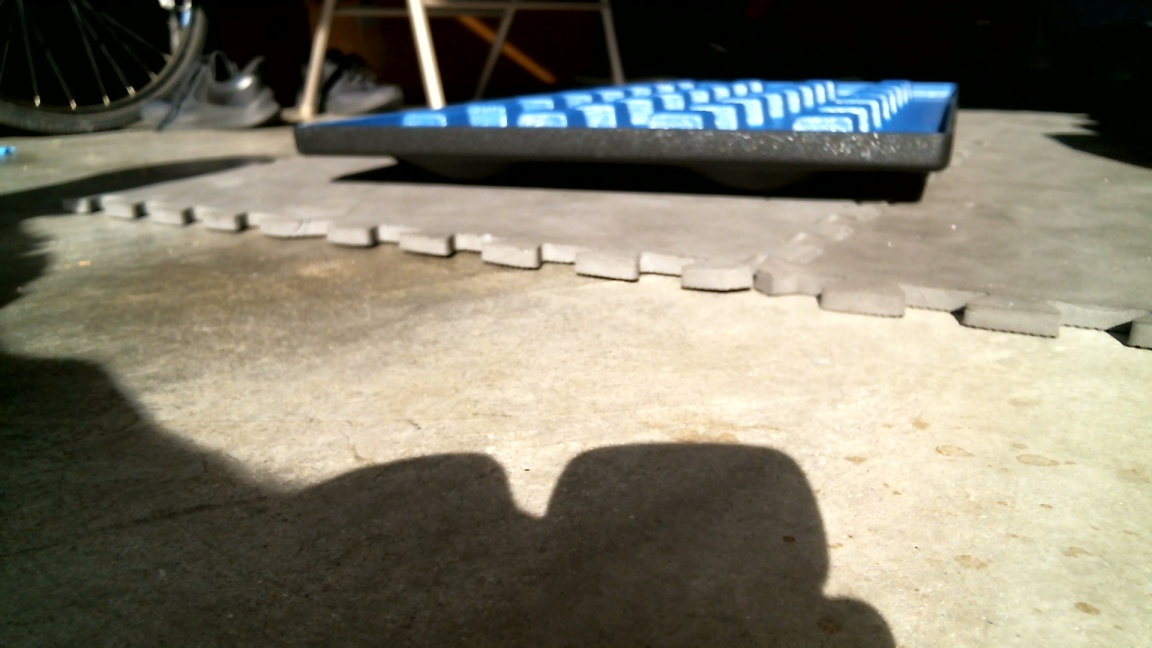blue_foundation: (292, 76, 963, 207)
